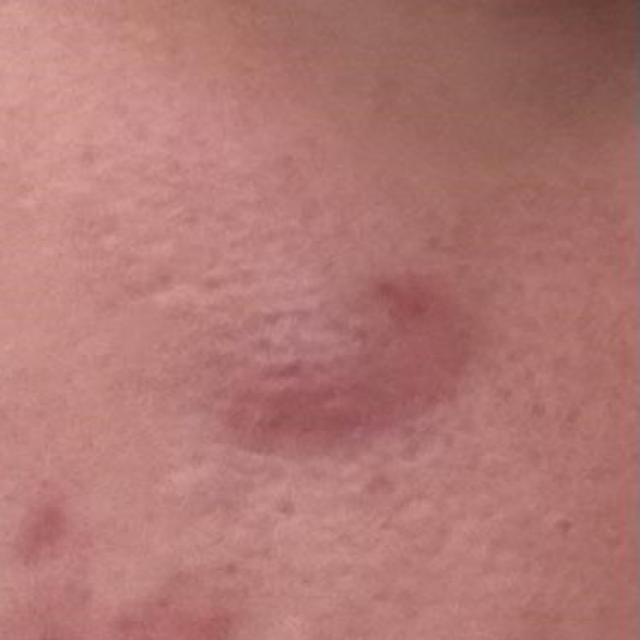nodule: (234, 295, 460, 441)
